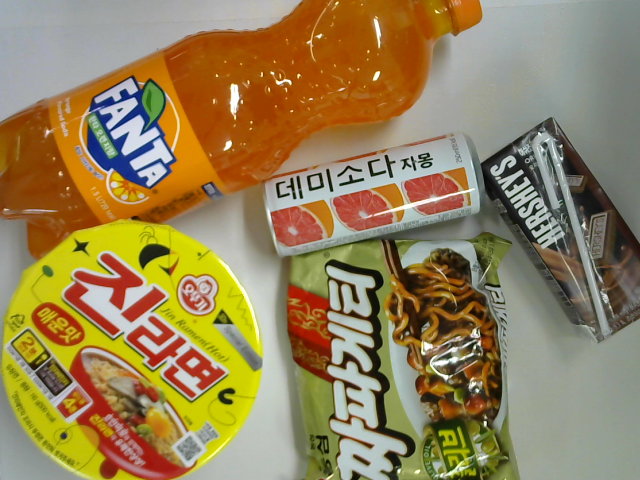Demisoda_Grapefruit_Can_250ml: (262, 132, 485, 255)
Hush_Choco_Drink: (479, 114, 640, 344)
Hwanta_Orange_1.5L: (1, 1, 484, 259)
Jinlamyeon_Hot_Taste_Large_Cup: (1, 221, 265, 480)
Olive_Chapaghetti: (286, 232, 522, 480)
